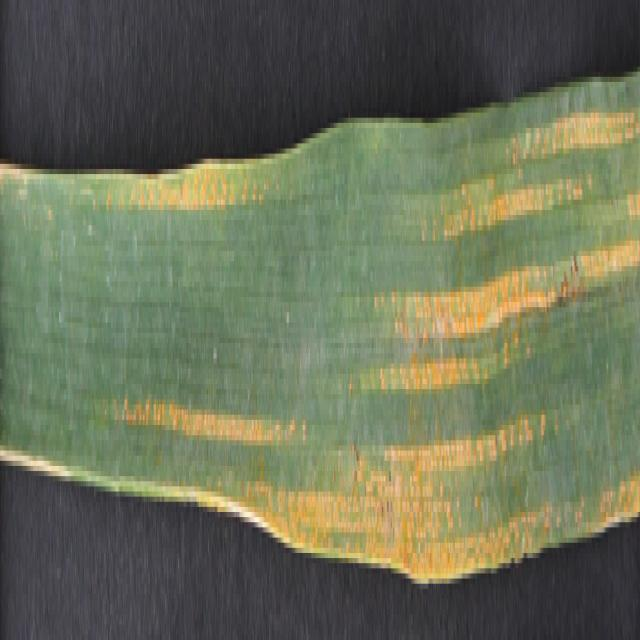leaf rust: (110, 102, 638, 599)
